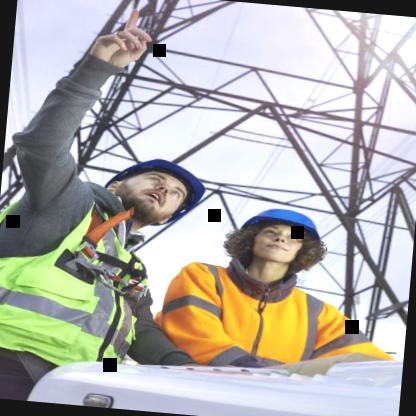helmet: (224, 194, 337, 284), (101, 146, 206, 228)
